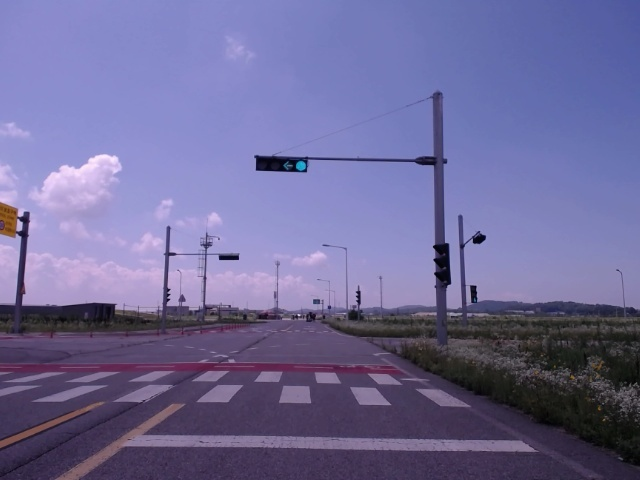all_green_4: (258, 156, 309, 173)
